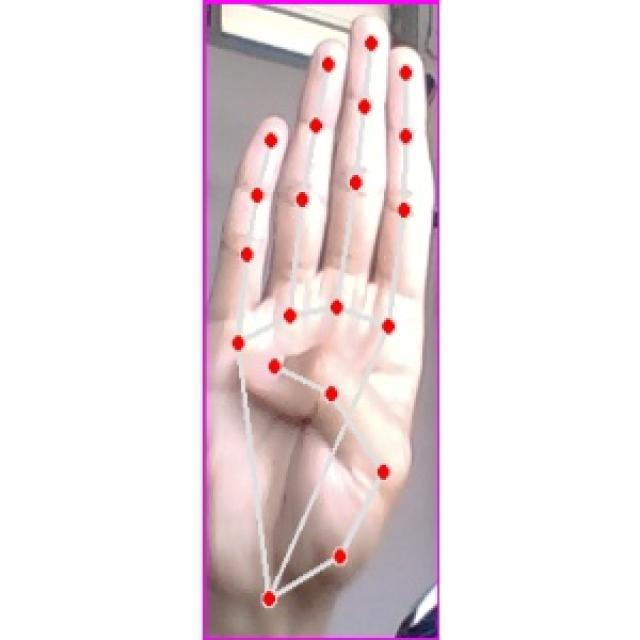B: (210, 11, 432, 610)
